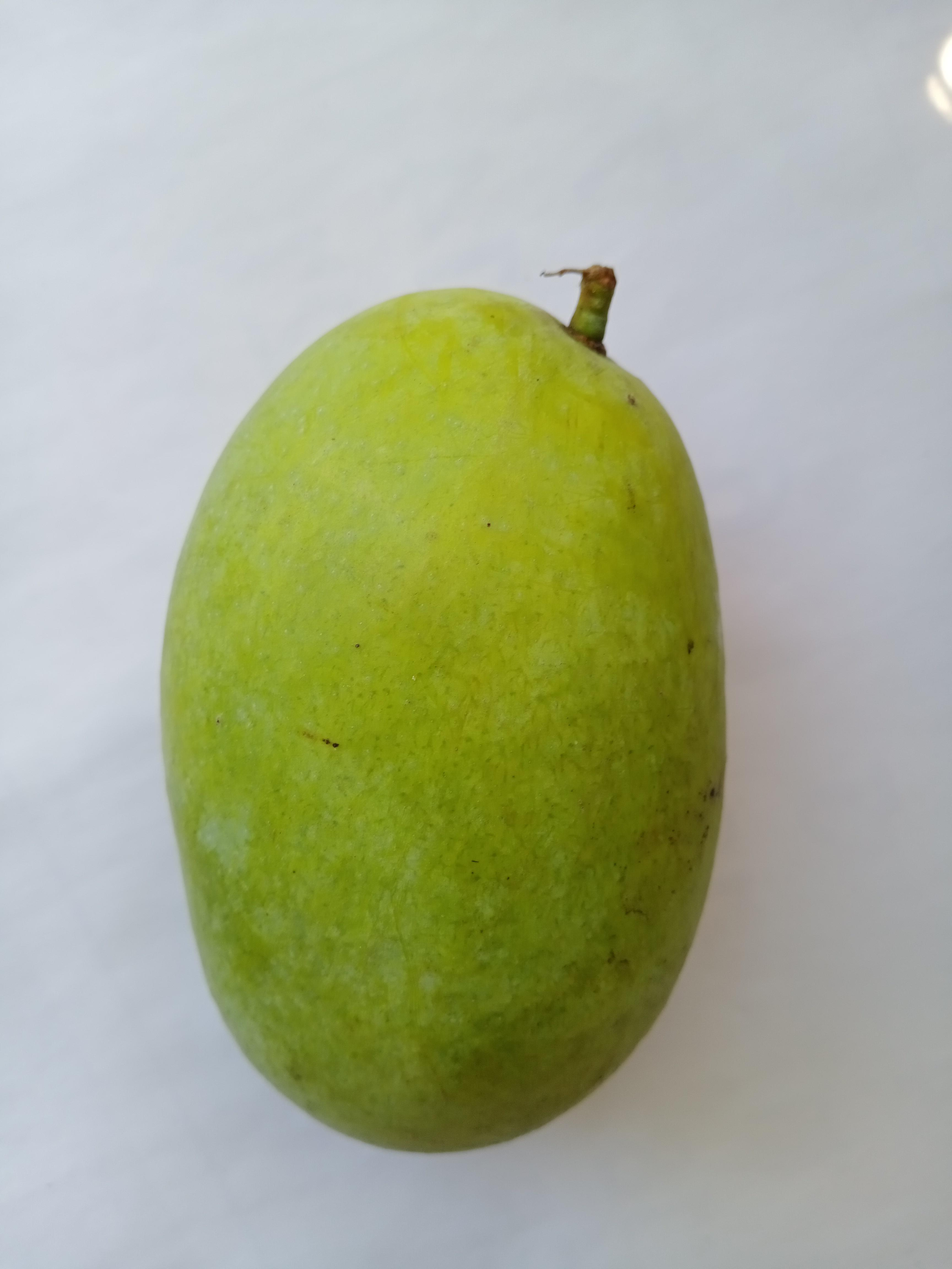Mango Unripe: (127, 209, 766, 1184)
